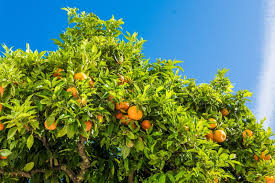orange: (127, 106, 143, 121), (41, 119, 57, 131), (215, 129, 227, 143)
